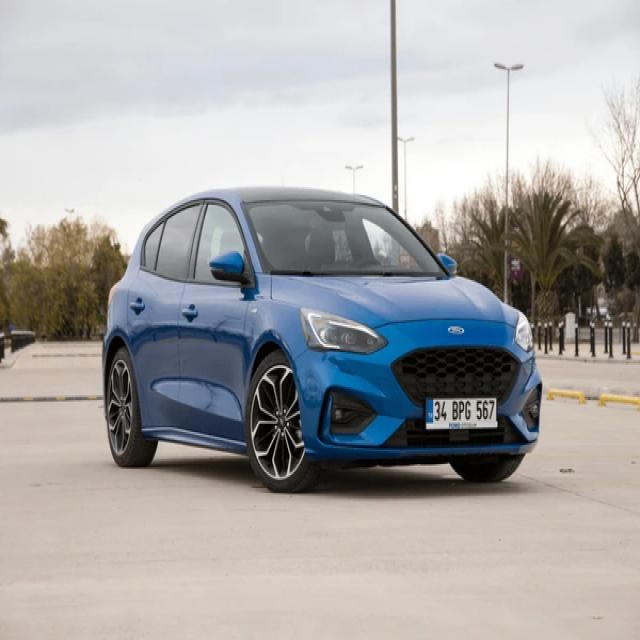ford: (446, 322, 468, 338)
